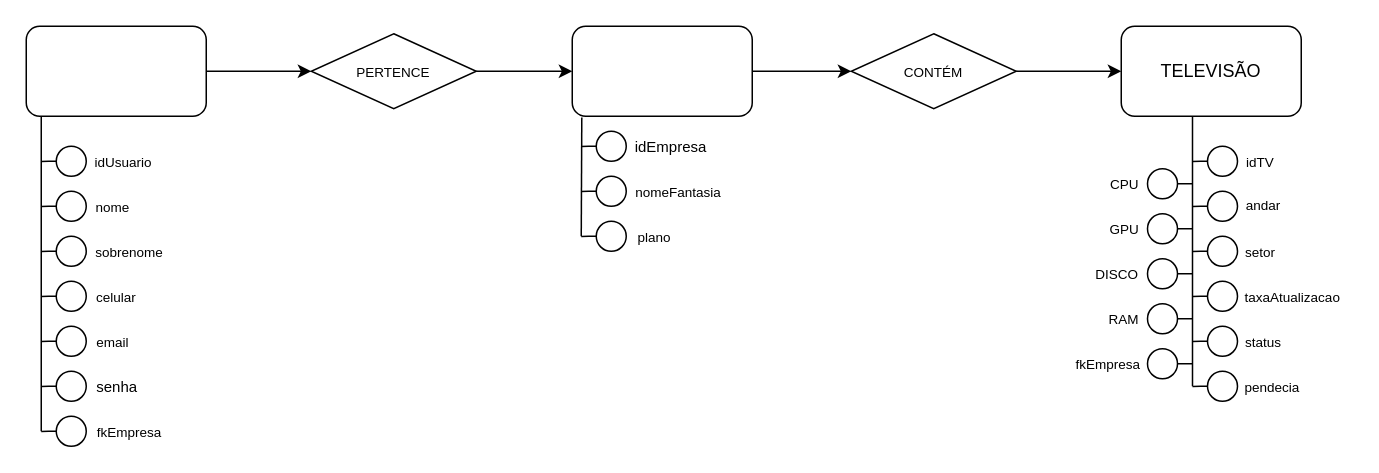
Some shapes in this 1379 by 473 pixel diagram are drawn without their labels. Here are the shapes that lost their labels. From the top down, the box of each, then its label:
(25, 25, 206, 116): USUÁRIO
(571, 25, 752, 116): EMPRESA
